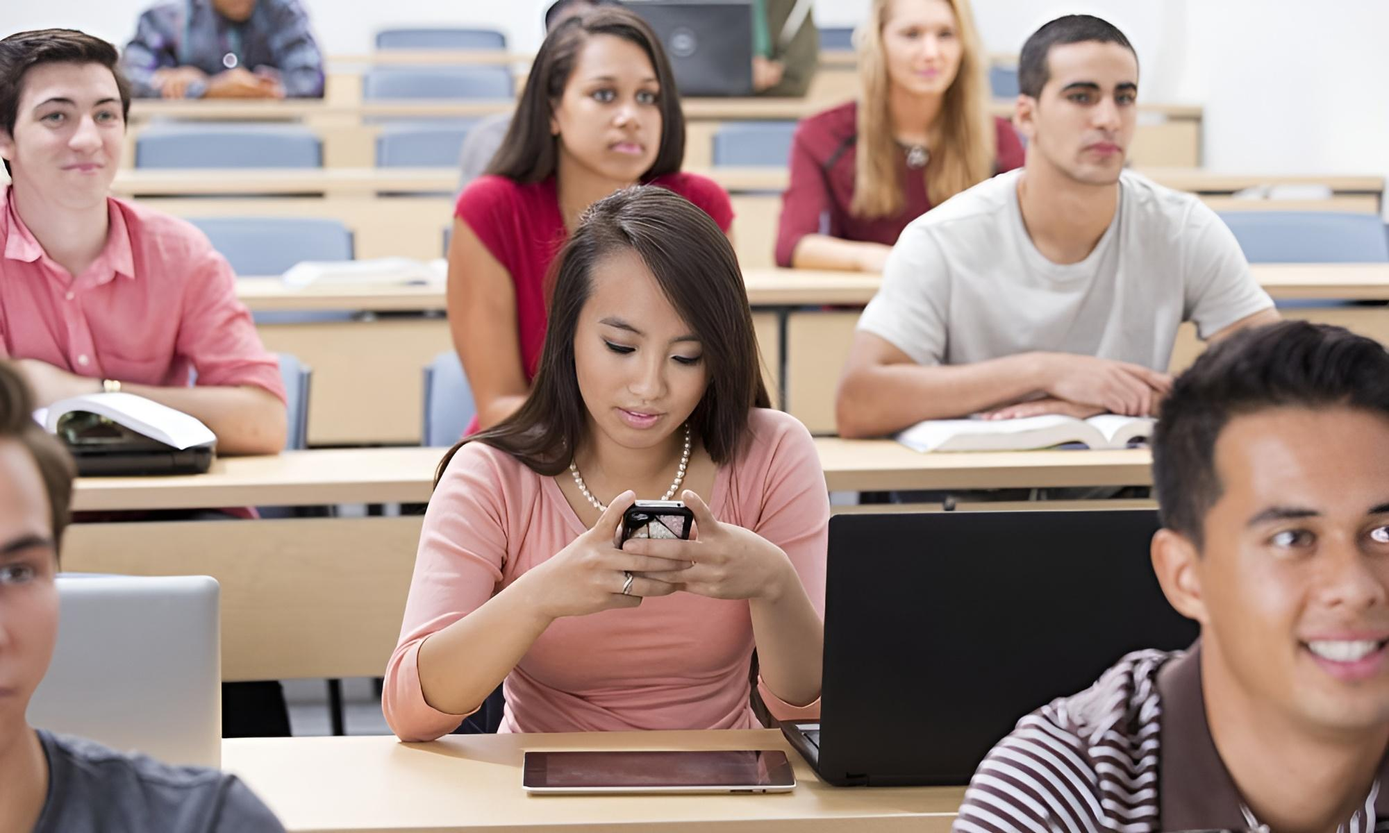phone: (384, 186, 839, 742)
study: (943, 316, 1389, 833), (843, 14, 1299, 444), (0, 352, 311, 833), (0, 22, 291, 458), (440, 5, 729, 435), (776, 0, 1023, 261)
